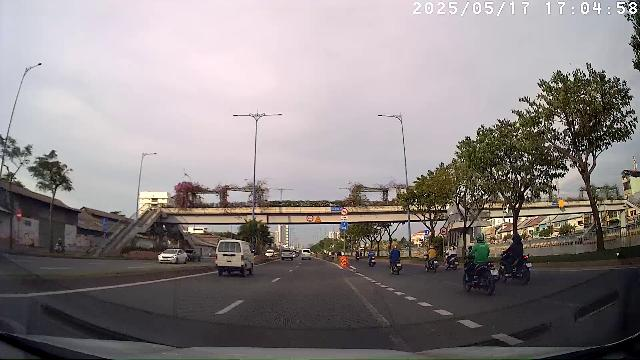103a-cam-oto: (440, 227, 448, 235)
